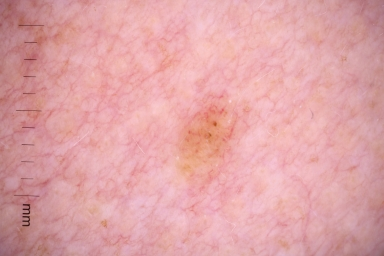melanoma: (179, 117, 225, 172)
